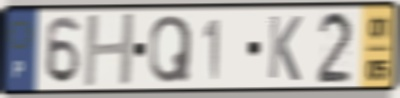1: (201, 16, 221, 81)
2: (315, 8, 355, 87)
6: (42, 14, 83, 87)
H: (81, 10, 138, 90)
K: (266, 13, 304, 84)
Q: (147, 13, 195, 86)
